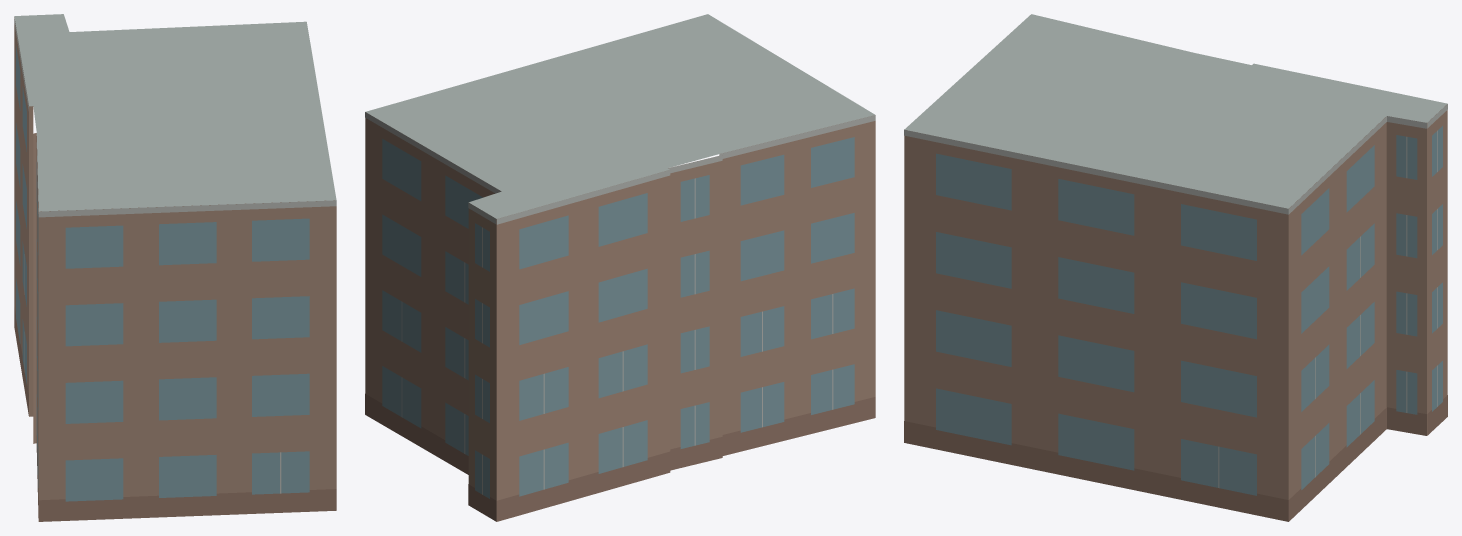
Rendered from survey-upis-33016856.glb.
The picture shows the model from 3 angles, left to right: view 1: azimuth 30°, elevation 25°; view 2: azimuth 150°, elevation 25°; view 3: azimuth 270°, elevation 25°; orthographic projection. The views are drawn at different scales.
Parts seen in each view (by area): view 1: survey-upis-33016856.tmp; view 2: survey-upis-33016856.tmp; view 3: survey-upis-33016856.tmp.
Part boxes in pixels (x1,y1,x2,y2): survey-upis-33016856.tmp: [14, 14, 336, 521]; survey-upis-33016856.tmp: [365, 14, 875, 521]; survey-upis-33016856.tmp: [904, 14, 1447, 521].
Bounding box in the file's own units: 17.15 × 12.85 × 20.23.
